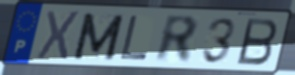3: (201, 17, 237, 65)
B: (235, 16, 280, 67)
L: (118, 14, 150, 62)
M: (70, 11, 127, 62)
R: (153, 13, 200, 65)
X: (34, 9, 83, 63)
